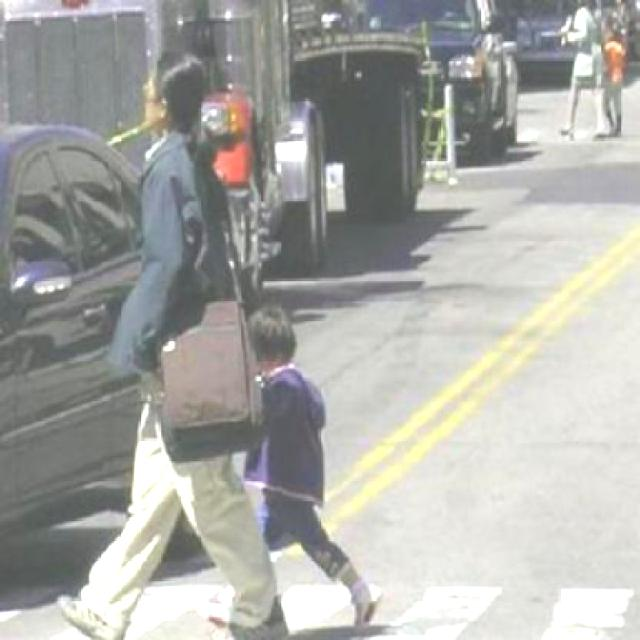Person: (51, 46, 291, 638), (248, 303, 386, 637), (556, 0, 612, 144)
